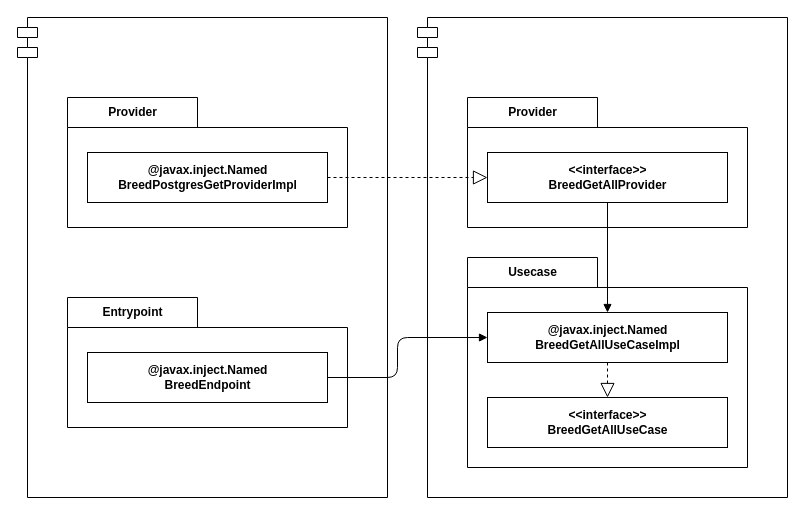
The diagram is 805 pixels wide and 515 high, and some of its shapes have lost their labels. The box of each missing label's shape, as (x1, y1, x2, y2) in pixels:
APP: (16, 16, 388, 498)
DOMAIN: (416, 16, 788, 498)
